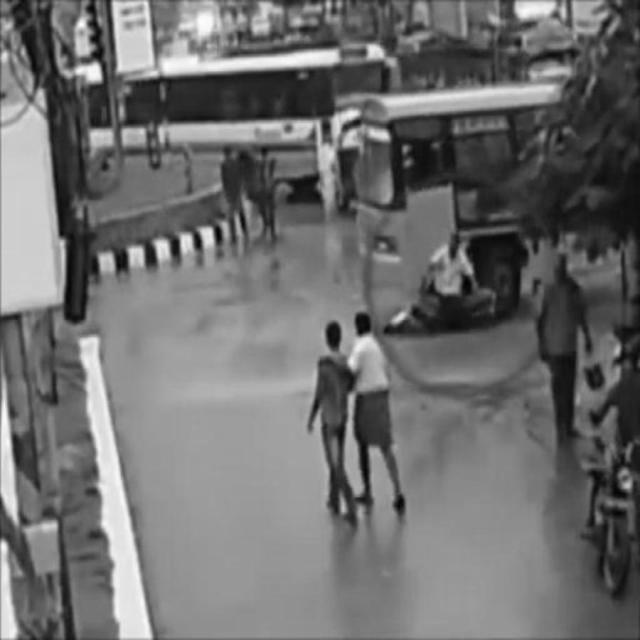person: (344, 306, 402, 518), (303, 322, 353, 524)
vehicle: (352, 94, 632, 288), (116, 45, 394, 205)
